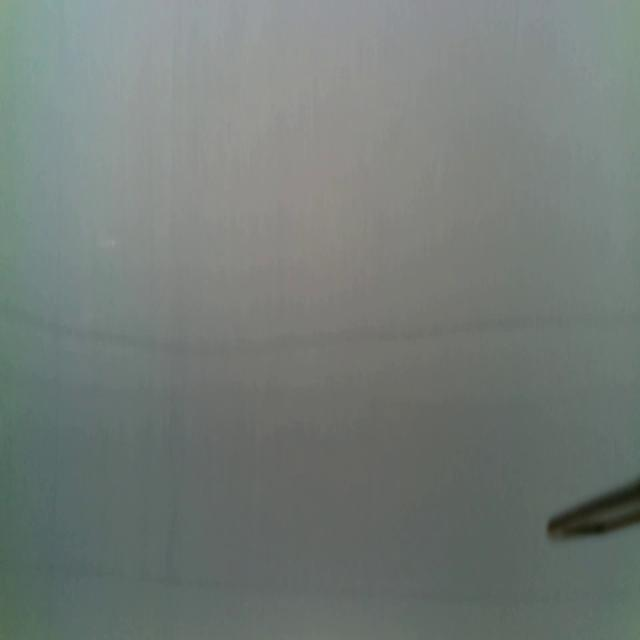color bleeding: (1, 286, 573, 368), (1, 553, 640, 622)
